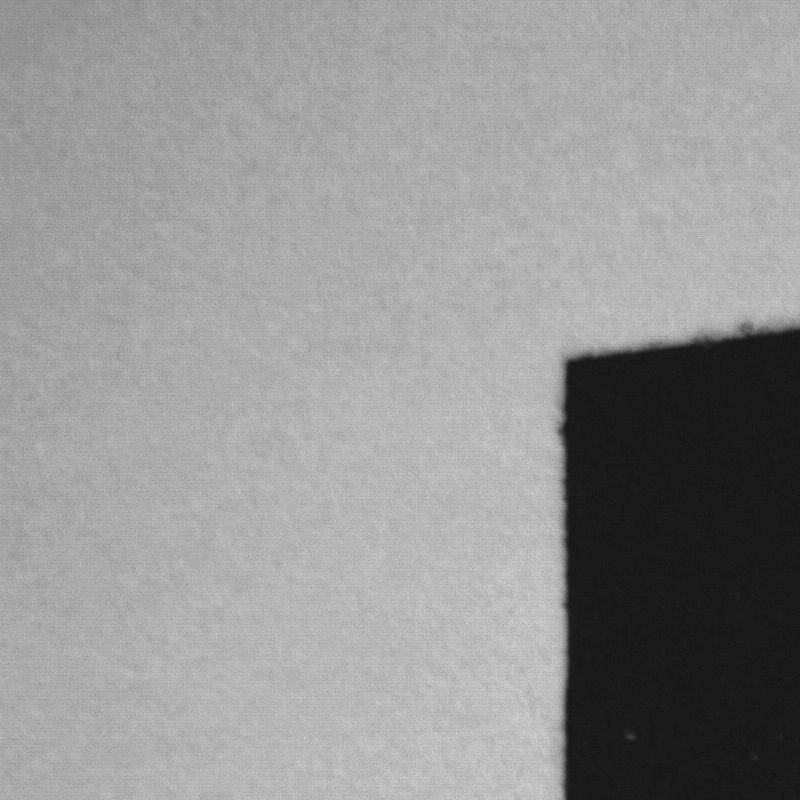defect: (734, 322, 758, 338)
